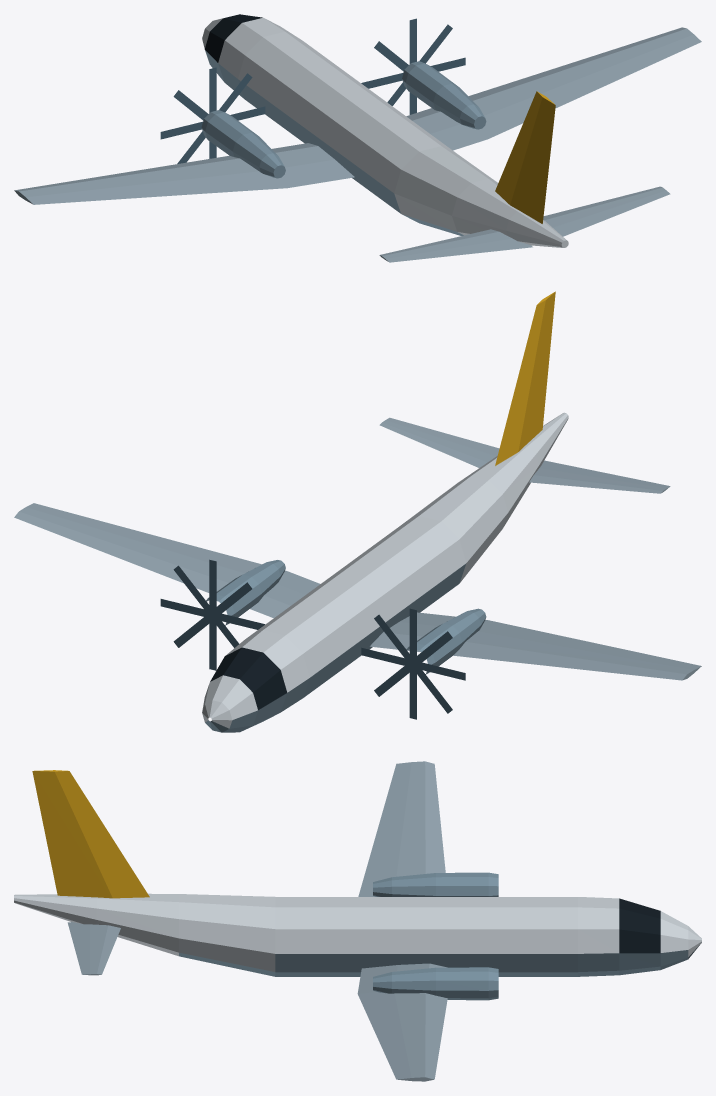
The picture shows the model from 3 angles, top to bottom: view 1: azimuth 30°, elevation 25°; view 2: azimuth 150°, elevation 25°; view 3: azimuth 270°, elevation 25°; orthographic projection. The views are drawn at different scales.
Visible parts, largest first — view 1: lod0; view 2: lod0; view 3: lod0.
Part boxes in pixels (x1,y1,x2,y2): lod0: (14,14,701,262); lod0: (14,291,701,732); lod0: (14,761,701,1081).
Size of what is drawn, in the model's own units: 1.09 by 0.3506 by 1.
